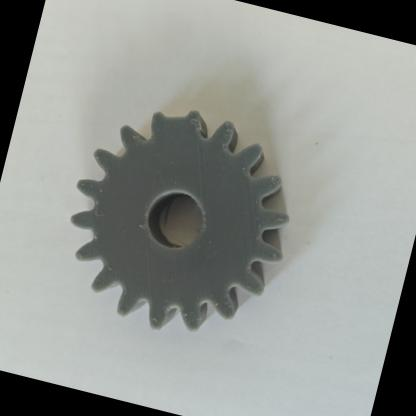defect: (120, 77, 220, 163)
gear: (38, 64, 332, 386)
